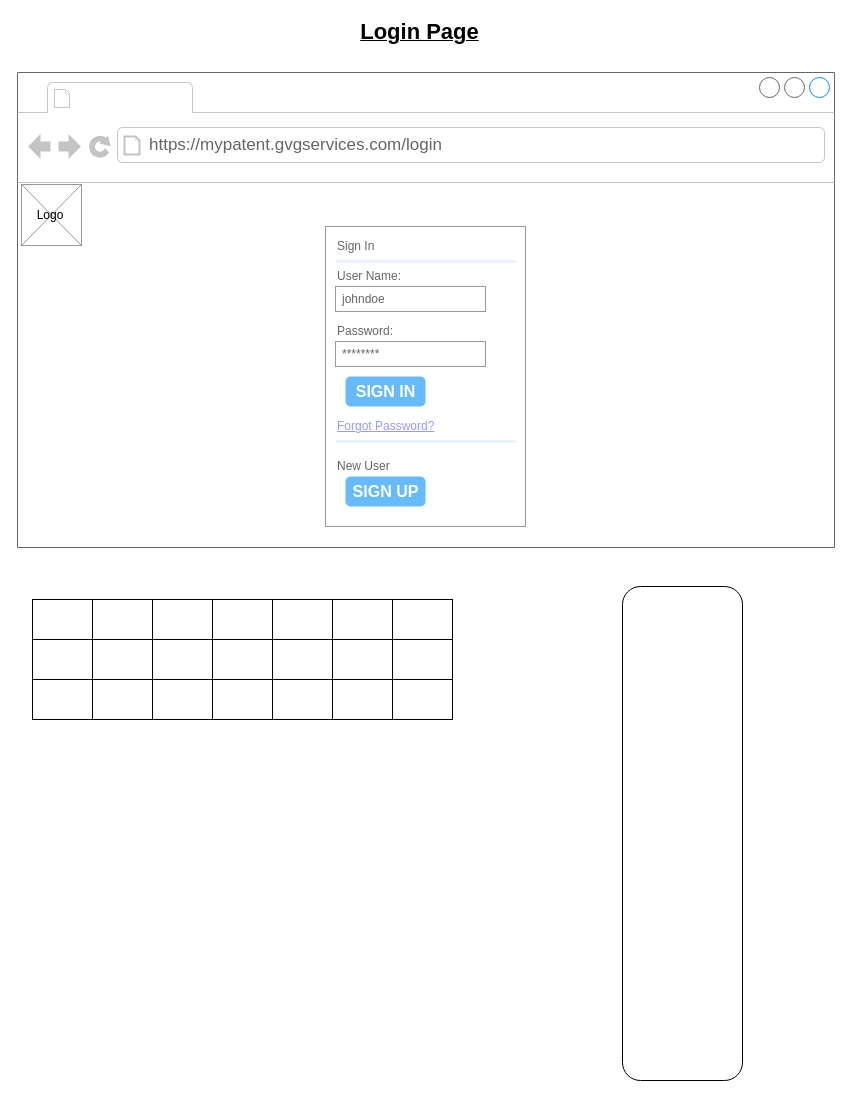
Image size: 852x1098. Some labels were removed from this diagram. The box of each missing label's shape, as (x1, y1, x2, y2) in pixels:
dfs adfa sdfs: (622, 586, 742, 1080)
mypatent: (76, 84, 188, 110)
